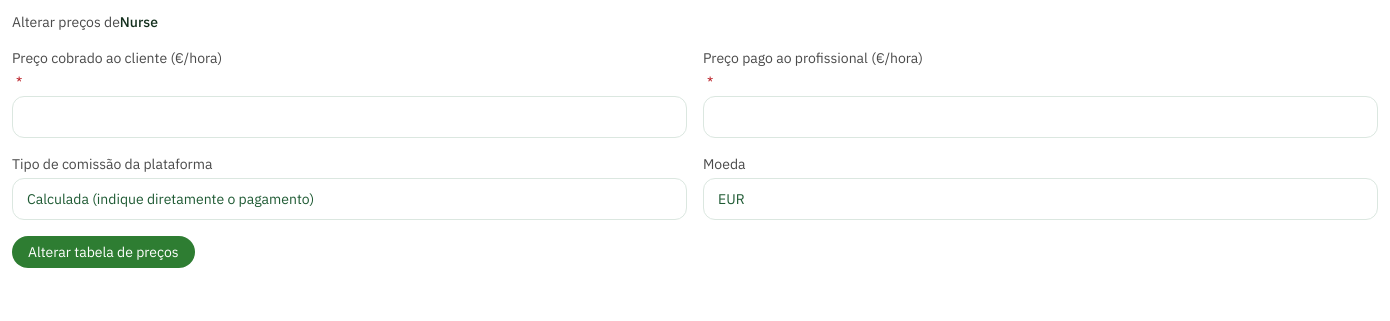
Test case: restores the rate form and preserves inputs after a thrown action
The width and height of the screenshot is (1390, 321).
In the number field labelled "Preço cobrado ao cliente (€/hora) *": (350, 117) [12,96,687,138], type "25"
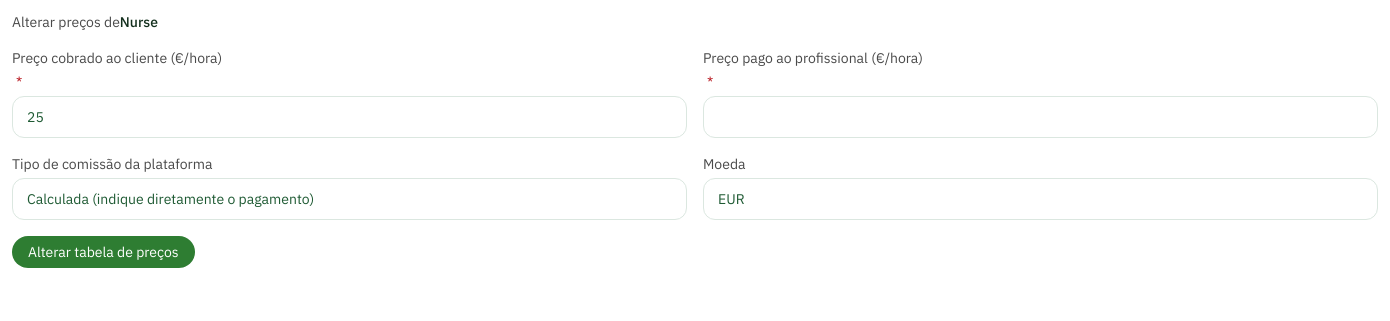
In the number field labelled "Preço pago ao profissional (€/hora) *": (1040, 117) [703,96,1378,138], type "20"
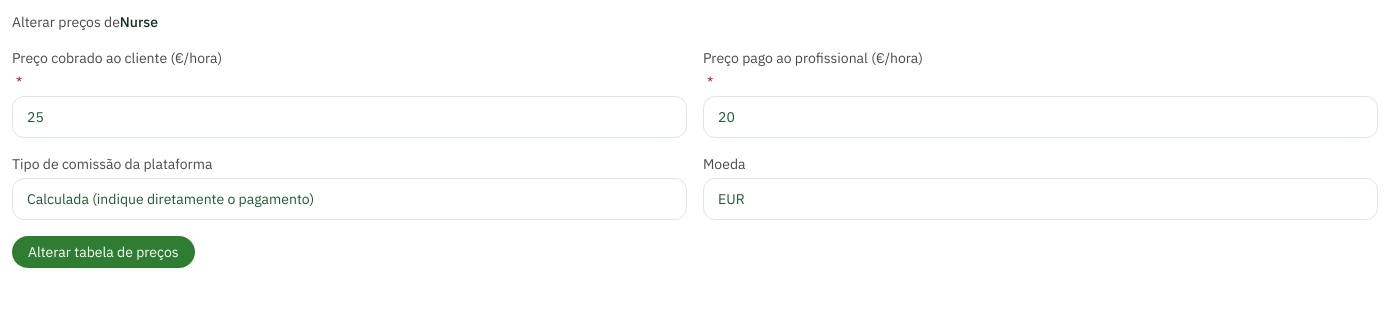
Submit the form named "Alterar tabela de preços"
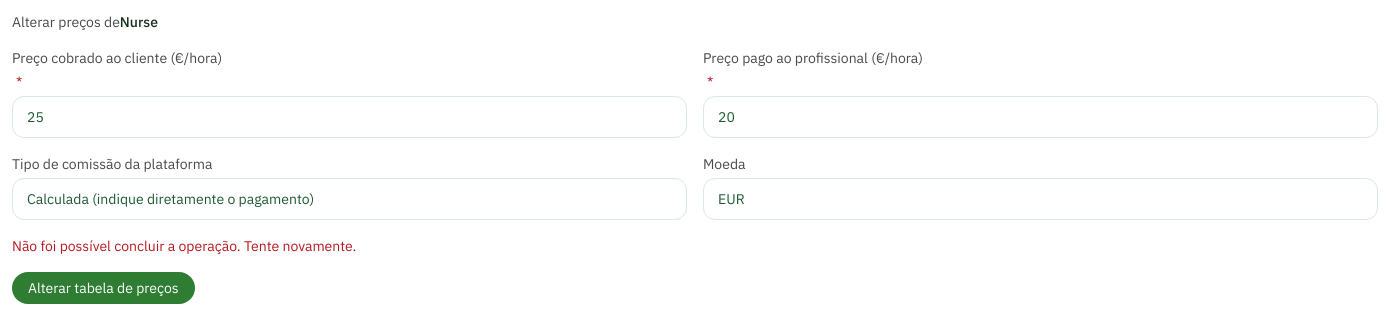
Expected: the button "Alterar tabela de preços" is enabled, [12,272,195,304]
Expected: the message reads "Não foi possível concluir a operação. Tente novamente.", [12,237,356,255]
